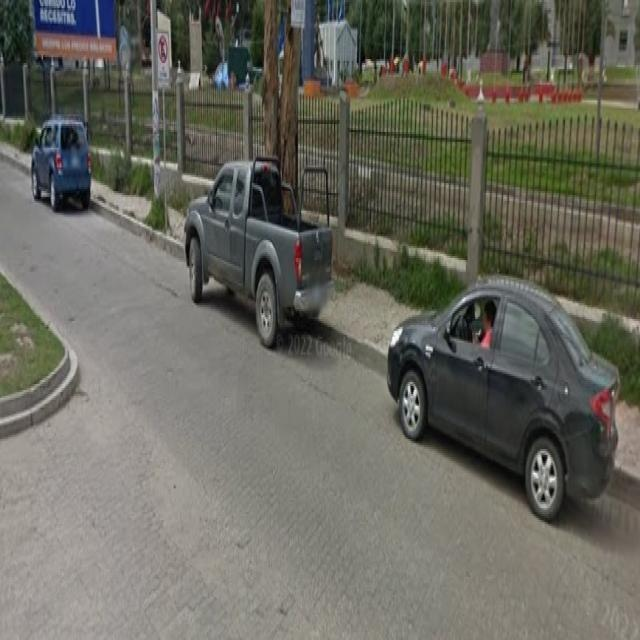Car: (399, 254, 618, 521), (180, 146, 332, 344), (27, 108, 92, 216)
